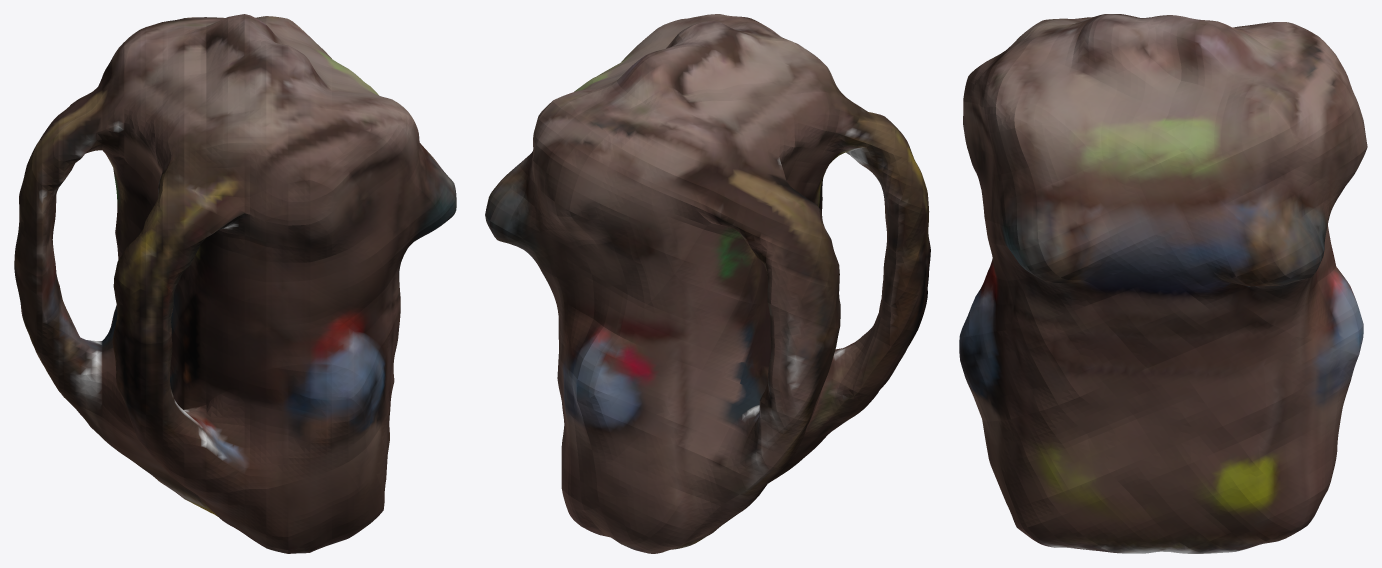
The model's file is backpack_ours.obj.
3 renders of one model, left to right at view 1: azimuth 30°, elevation 25°; view 2: azimuth 150°, elevation 25°; view 3: azimuth 270°, elevation 25°, orthographic. The views are drawn at different scales.
Size of the model in its own units: 0.5681 by 0.7854 by 0.548.
